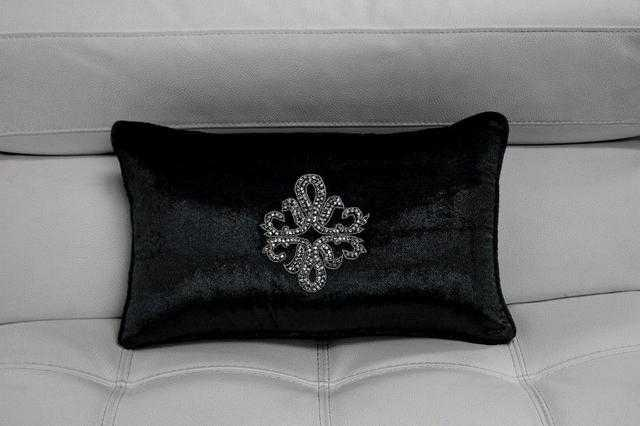pillow: (110, 110, 518, 350)
